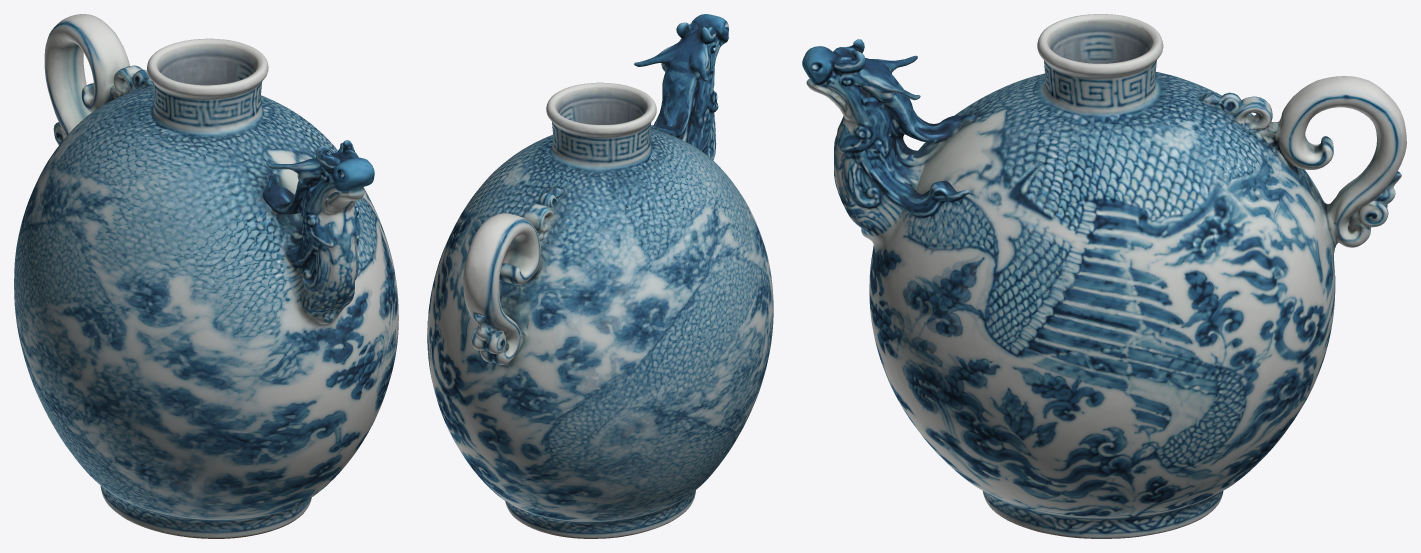
The model's file is eb6cf947-dfd5-4e86-99f9-6065828fb7ec.glb.
3 views of the same model, side by side, from view 1: azimuth 30°, elevation 25°; view 2: azimuth 150°, elevation 25°; view 3: azimuth 270°, elevation 25° (orthographic). The views are drawn at different scales.
Parts seen in each view (by area): view 1: tripo_node_644bb426-f6ca-435c-af3c-d51df302be0c; view 2: tripo_node_644bb426-f6ca-435c-af3c-d51df302be0c; view 3: tripo_node_644bb426-f6ca-435c-af3c-d51df302be0c.
Boxes of the visible parts, <box> form: tripo_node_644bb426-f6ca-435c-af3c-d51df302be0c: <box>14,14,398,538</box>; tripo_node_644bb426-f6ca-435c-af3c-d51df302be0c: <box>427,14,773,538</box>; tripo_node_644bb426-f6ca-435c-af3c-d51df302be0c: <box>802,14,1406,538</box>.
Size of the model in its own units: 0.6344 by 0.8316 by 0.9994.
Materials: 1 (1 with a texture image).
